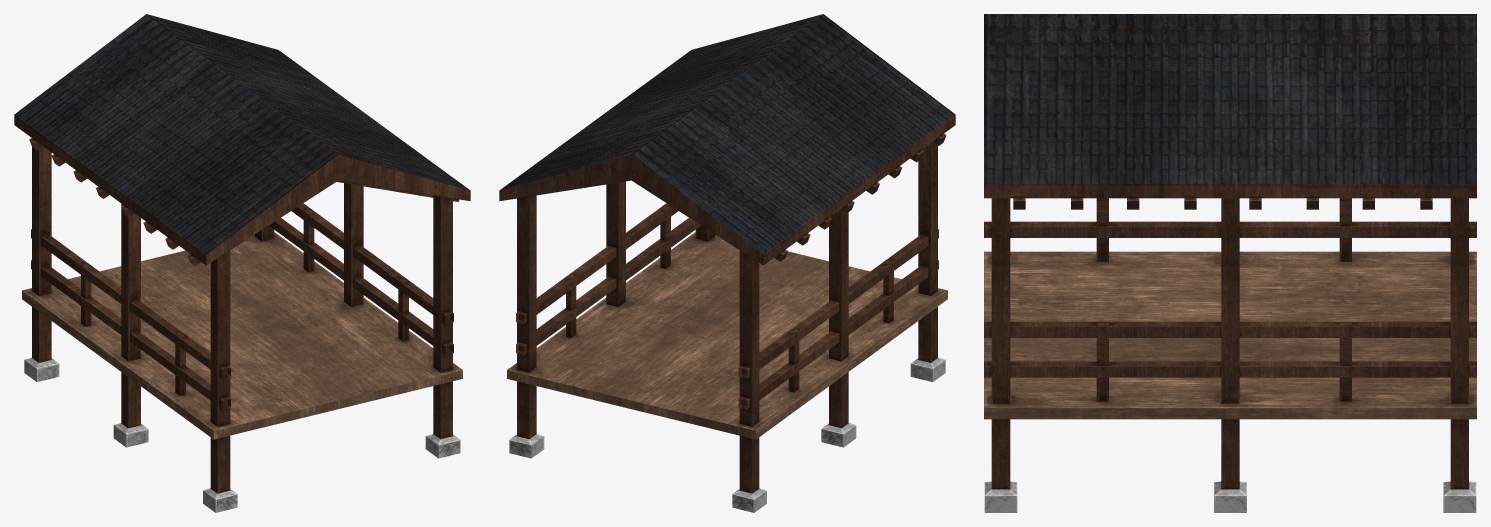
Rendered from NNJ0710004.fbx.
The picture shows the model from 3 angles, left to right: view 1: azimuth 30°, elevation 25°; view 2: azimuth 150°, elevation 25°; view 3: azimuth 270°, elevation 25°; orthographic projection. The views are drawn at different scales.
Visible parts, largest first — view 1: smNNJ0710004; view 2: smNNJ0710004; view 3: smNNJ0710004.
Boxes of the visible parts, x1,y1,x2,y2 form: smNNJ0710004: (14, 14, 470, 512); smNNJ0710004: (499, 14, 955, 512); smNNJ0710004: (984, 14, 1476, 512).
Size of the model in its own units: 474 by 553 by 585.
1 material, 1 textured.
